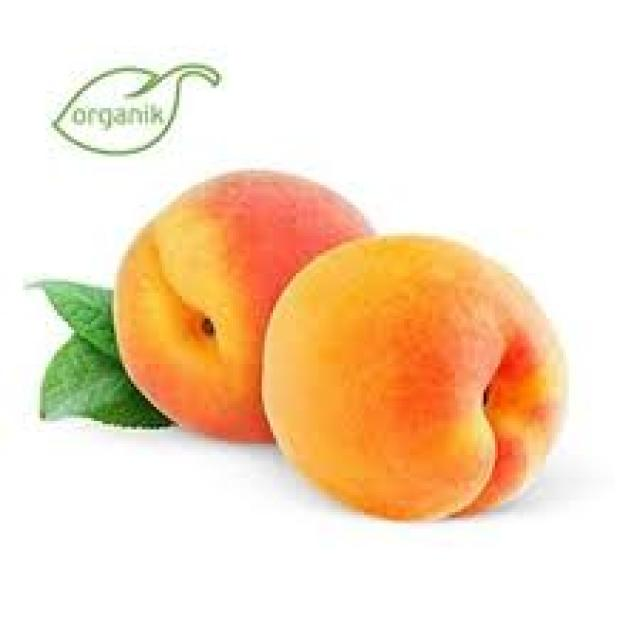kayisi: (118, 153, 571, 526)
